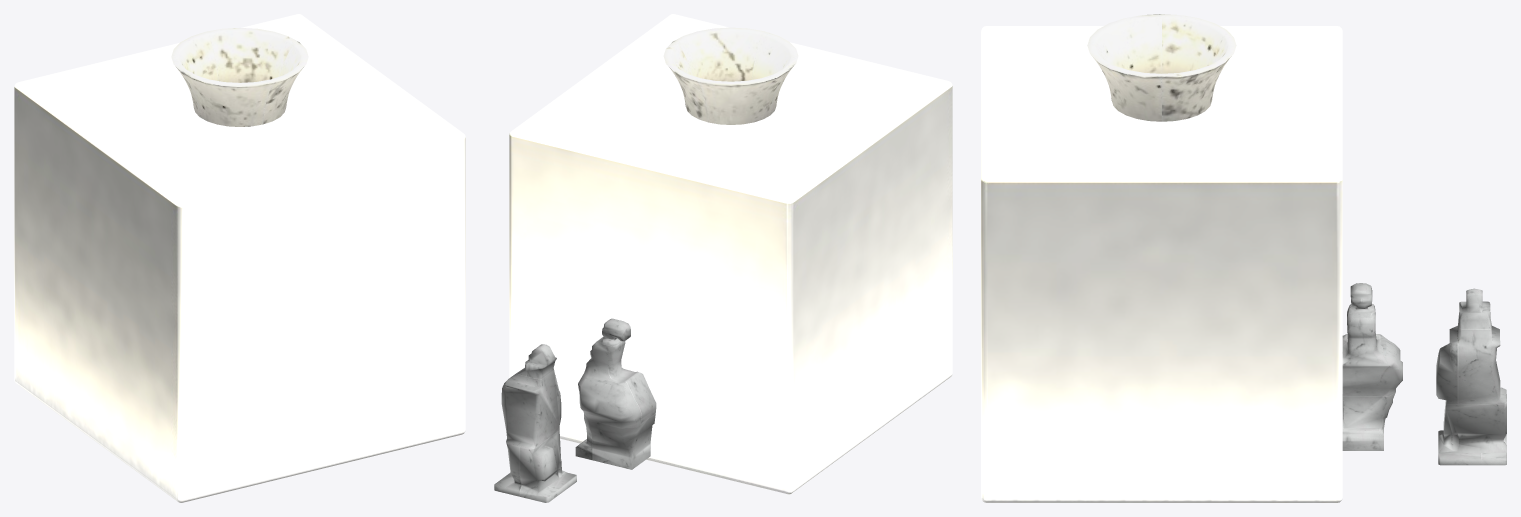
File: ItemsInCases.fbx
3 views of the same model, side by side, from view 1: azimuth 30°, elevation 25°; view 2: azimuth 150°, elevation 25°; view 3: azimuth 270°, elevation 25° (orthographic). The views are drawn at different scales.
Parts seen in each view (by area): view 1: Base, Vase6; view 2: Base, Vase6, Statue1, Statue4; view 3: Base, Vase6, Statue4, Statue1.
Boxes of the visible parts, x1,y1,x2,y2 form: Base: [14, 14, 465, 502]; Vase6: [171, 28, 308, 126]; Base: [509, 14, 952, 494]; Vase6: [663, 27, 798, 124]; Statue1: [575, 318, 656, 469]; Statue4: [494, 344, 576, 502]; Base: [981, 26, 1342, 502]; Vase6: [1087, 14, 1236, 121]; Statue4: [1436, 288, 1506, 465]; Statue1: [1342, 283, 1402, 450].
Bounding box in the file's own units: 71.8 × 83.86 × 104.
13 materials, 11 textured.
